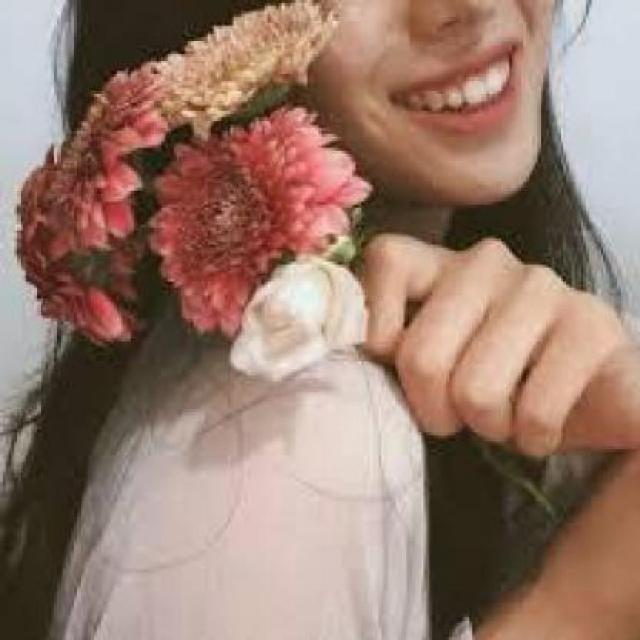flower: (144, 143, 342, 337), (30, 74, 147, 361), (139, 11, 347, 120), (244, 272, 376, 392)
